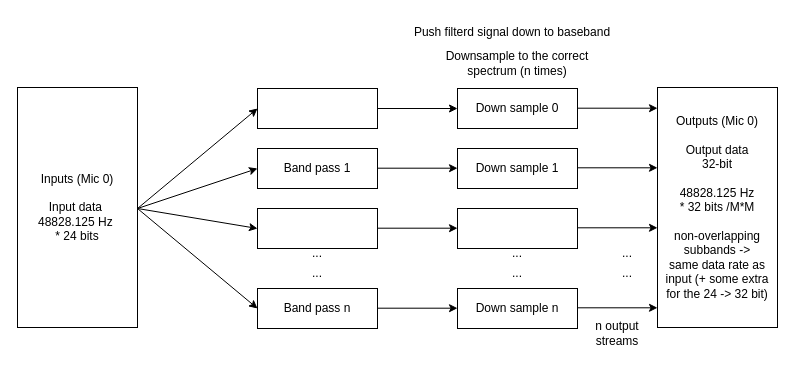
Some shapes in this 795 by 365 pixel diagram are drawn without their labels. The shapes that lost their labels are listed below. From the top down, each one's centre as x and y in pixels, then its label:
At [317,108]: "Band pass 0".
At [317,228]: "Band pass 2".
At [517,228]: "Down sample 2".
